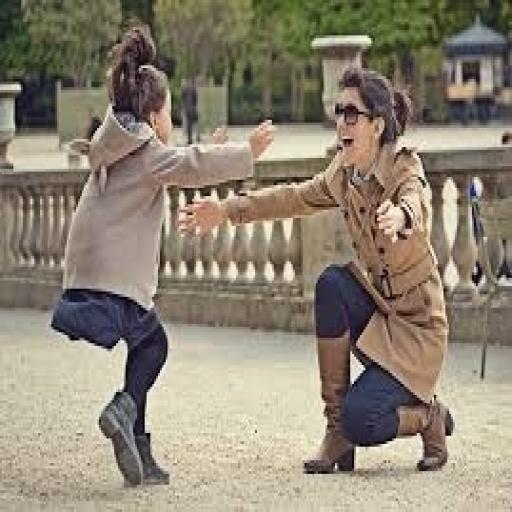hugging: (175, 63, 457, 479), (47, 22, 278, 490)
